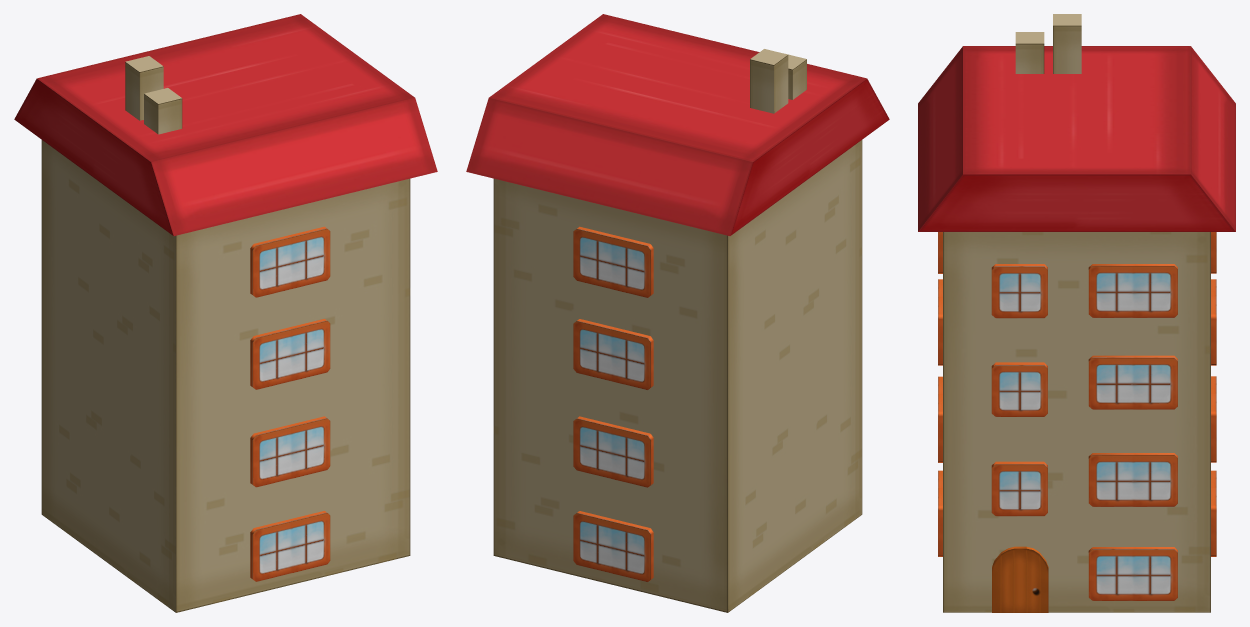
The model's file is House_11.fbx.
3 renders of one model, left to right at view 1: azimuth 30°, elevation 25°; view 2: azimuth 150°, elevation 25°; view 3: azimuth 270°, elevation 25°, orthographic.
Parts seen in each view (by area): view 1: House_11; view 2: House_11; view 3: House_11.
Boxes of the visible parts, left/top/right/bottom form: House_11: left=14, top=14, right=437, bottom=612; House_11: left=466, top=14, right=889, bottom=612; House_11: left=918, top=14, right=1235, bottom=612.
Bounding box in the file's own units: 7.89 × 14.15 × 8.26.
